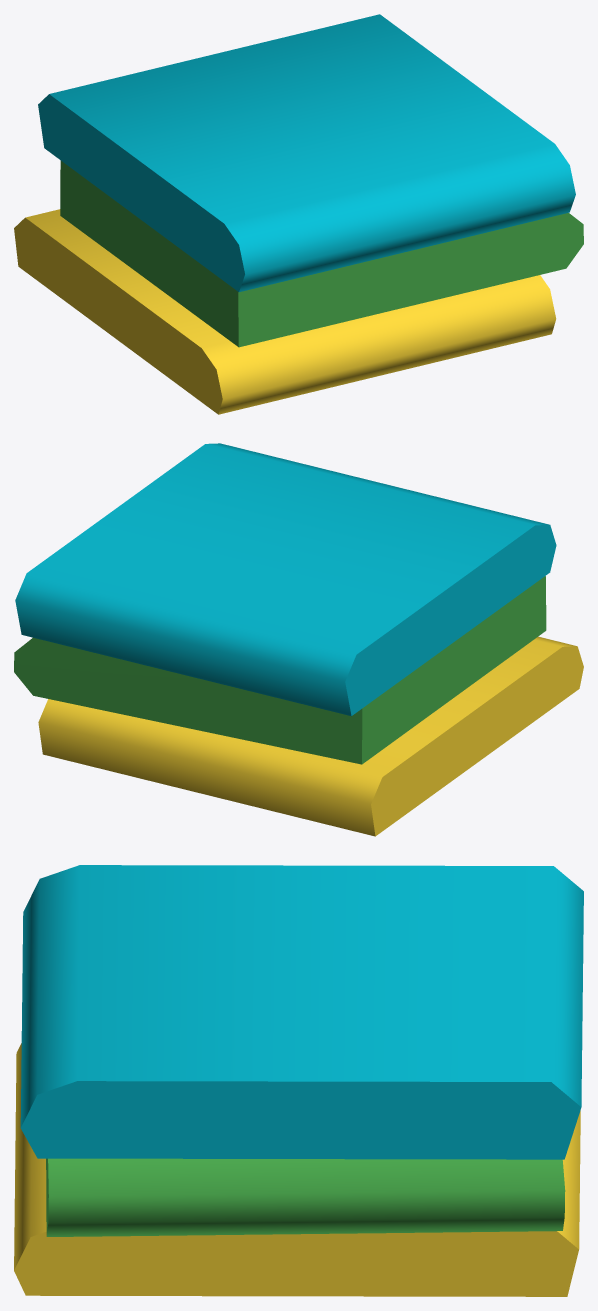
File: shop_049.fbx
3 views of the same model, one above another, from view 1: azimuth 30°, elevation 25°; view 2: azimuth 150°, elevation 25°; view 3: azimuth 270°, elevation 25° (orthographic). The views are drawn at different scales.
Parts seen in each view (by area): view 1: shop_049; view 2: shop_049; view 3: shop_049.
Part boxes in pixels (bbox=[...]): shop_049: bbox=[14, 14, 583, 414]; shop_049: bbox=[14, 443, 583, 836]; shop_049: bbox=[14, 865, 583, 1296].
Bounding box in the file's own units: 41.03 × 40.45 × 17.96.
